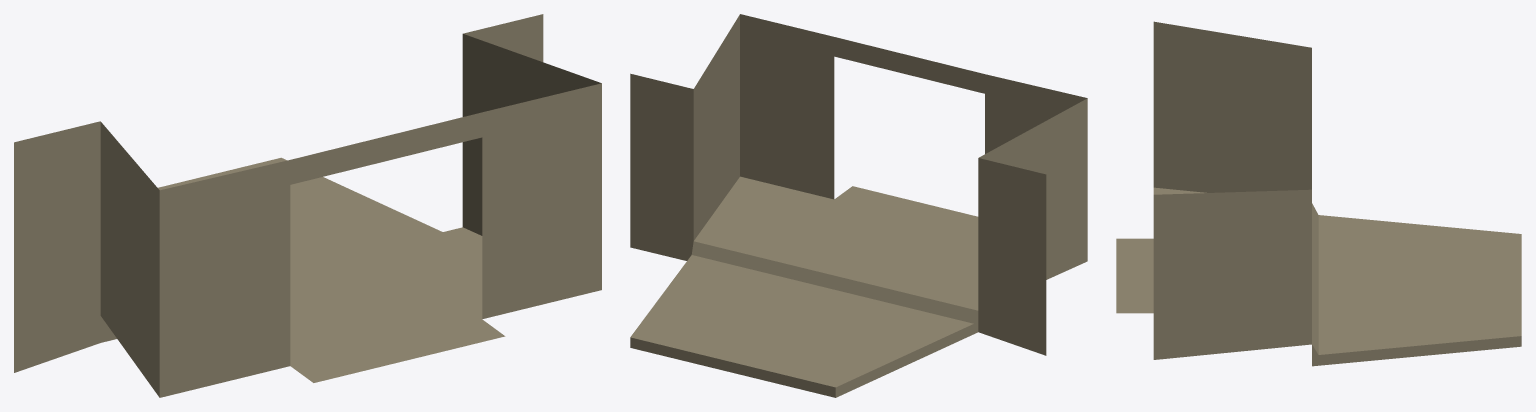
File: Bridge.glb
The picture shows the model from 3 angles, left to right: view 1: azimuth 30°, elevation 25°; view 2: azimuth 150°, elevation 25°; view 3: azimuth 270°, elevation 25°; orthographic projection. The views are drawn at different scales.
Parts seen in each view (by area): view 1: Bridge; view 2: Bridge; view 3: Bridge.
Boxes of the visible parts, x1,y1,x2,y2 form: Bridge: (14, 14, 601, 397); Bridge: (630, 14, 1087, 397); Bridge: (1116, 21, 1521, 366).
Size of the model in its own units: 6.14 by 2.7 by 5.09.
